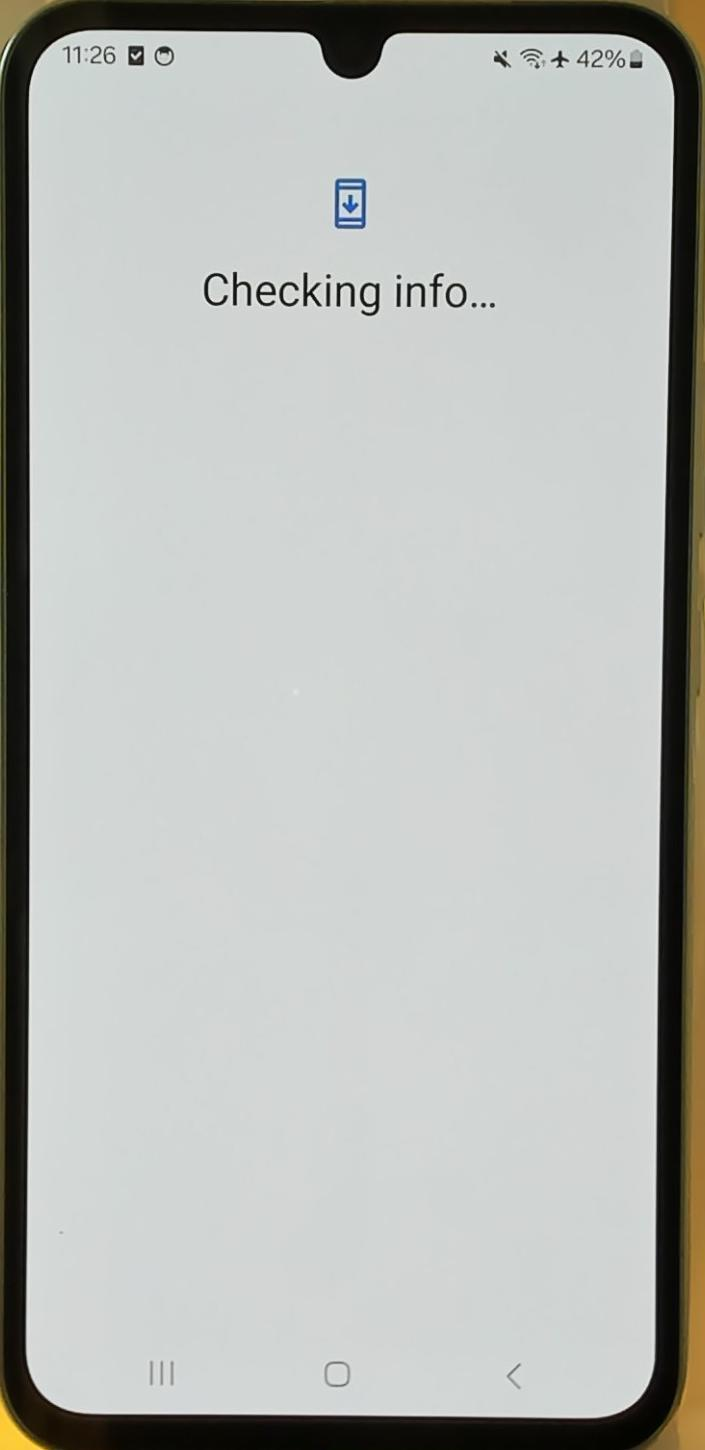CommunBotton: (488, 1338, 554, 1408), (314, 1338, 366, 1406), (130, 1340, 182, 1396)
